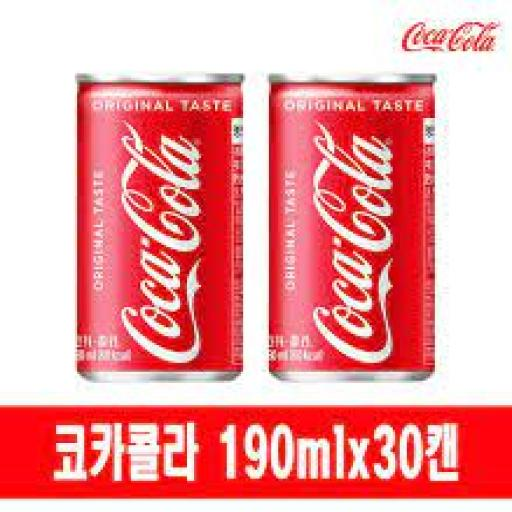Coca: (264, 64, 441, 385), (72, 65, 248, 385)
